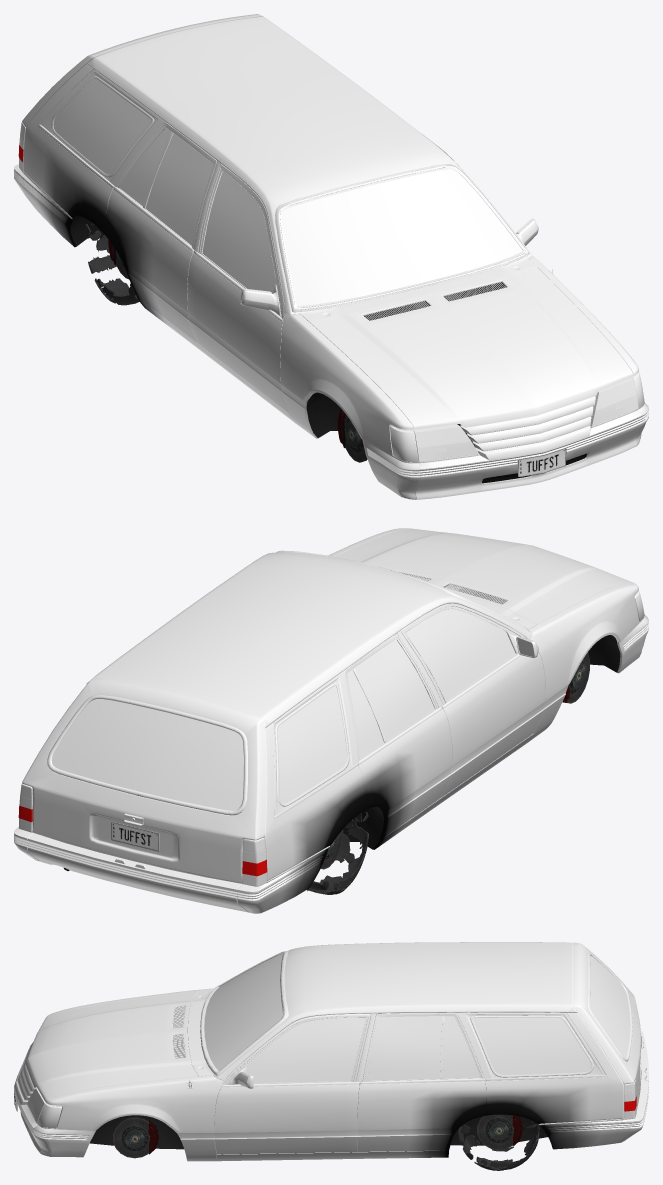
File: 56_TUFFST.fbx
The picture shows the model from 3 angles, top to bottom: view 1: azimuth 30°, elevation 25°; view 2: azimuth 150°, elevation 25°; view 3: azimuth 270°, elevation 25°; orthographic projection. The views are drawn at different scales.
Visible parts, largest first — view 1: Body_Duco, Body_Glass, Body_Kits_00, Body_Matte, Body_Chrome, Undercarriage, Numberplate; view 2: Body_Duco, Body_Glass, Body_Kits_00, Body_Matte, Body_Chrome, Undercarriage, Numberplate, Rotor; view 3: Body_Duco, Body_Glass, Body_Kits_00, Body_Matte, Body_Chrome, Rotor (×2), Undercarriage.
Part boxes in pixels (<box>): Body_Duco: <box>14,14,648,499</box>; Body_Glass: <box>19,78,644,462</box>; Body_Kits_00: <box>310,267,633,429</box>; Body_Matte: <box>51,75,634,430</box>; Body_Chrome: <box>23,63,644,463</box>; Undercarriage: <box>70,215,587,483</box>; Numberplate: <box>518,448,565,477</box>; Body_Duco: <box>14,528,648,913</box>; Body_Glass: <box>19,590,644,886</box>; Body_Kits_00: <box>335,528,631,624</box>; Body_Matte: <box>47,550,529,825</box>; Body_Chrome: <box>48,551,644,882</box>; Undercarriage: <box>64,585,620,870</box>; Numberplate: <box>111,822,159,851</box>; Rotor: <box>567,652,589,703</box>; Body_Duco: <box>14,942,648,1161</box>; Body_Glass: <box>27,953,636,1128</box>; Body_Kits_00: <box>25,991,198,1100</box>; Body_Matte: <box>49,951,643,1106</box>; Body_Chrome: <box>27,951,632,1129</box>; Rotor (×2): <box>113,1114,514,1158</box>; Undercarriage: <box>90,1115,547,1149</box>.
Size of what is drawn, in the model's own units: 1.91 by 1.31 by 4.65.
